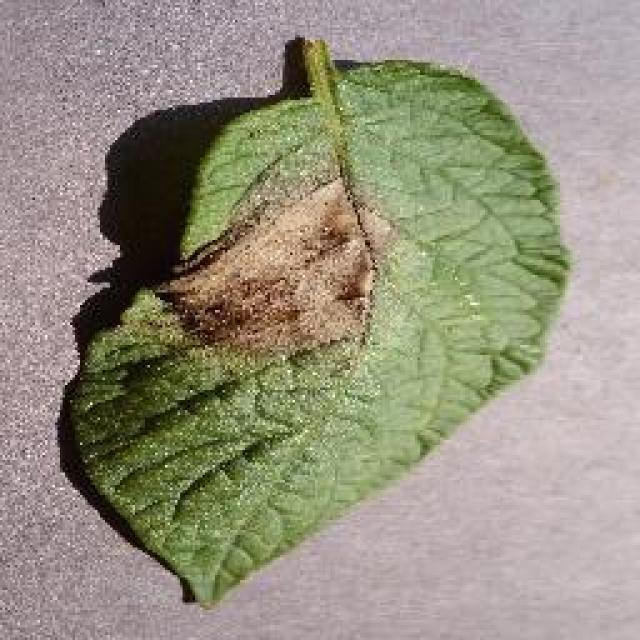Late_blight: (138, 158, 421, 374)
